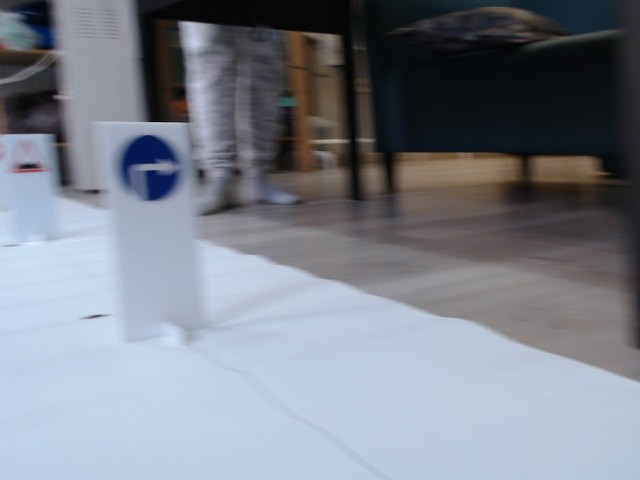Right: (116, 137, 182, 200)
